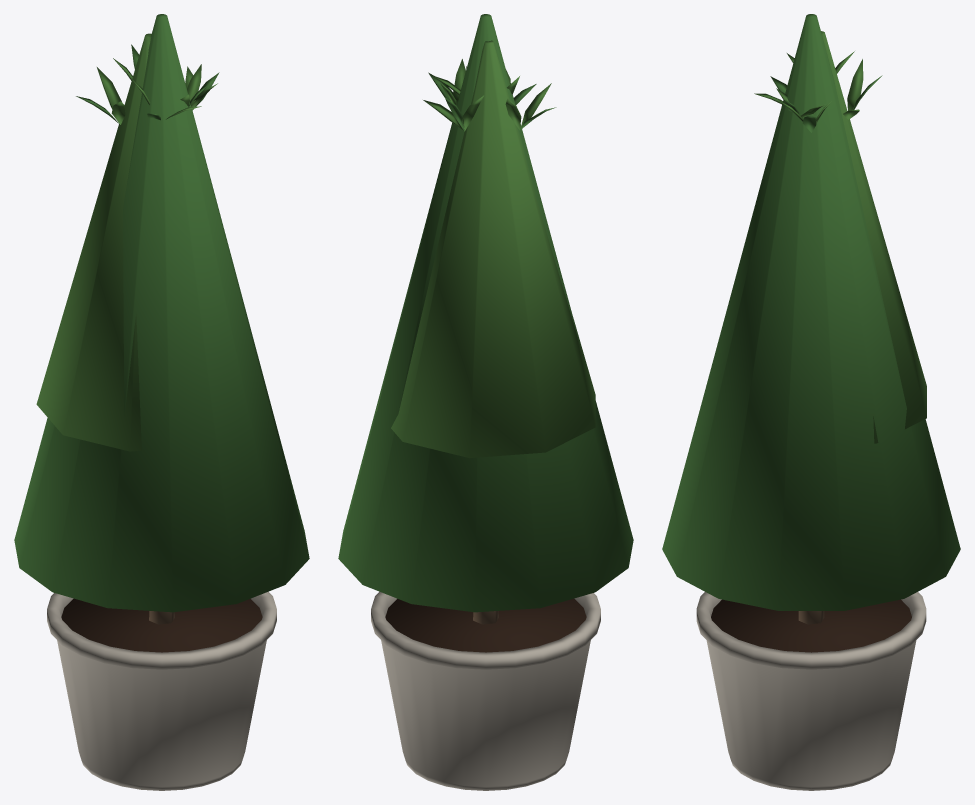
File: topiaryCone.glb
The picture shows the model from 3 angles, left to right: view 1: azimuth 30°, elevation 25°; view 2: azimuth 150°, elevation 25°; view 3: azimuth 270°, elevation 25°; orthographic projection.
Visible parts, largest first — view 1: topiaryCone, sprigs; view 2: topiaryCone, sprigs; view 3: topiaryCone, sprigs.
Boxes of the visible parts, x1,y1,x2,y2 form: topiaryCone: (14,14,309,790); sprigs: (76,44,219,124); topiaryCone: (338,14,633,790); sprigs: (423,59,556,131); topiaryCone: (662,14,960,790); sprigs: (754,51,882,132).
Bounding box in the file's own units: 0.6435 × 1.8 × 0.66.
